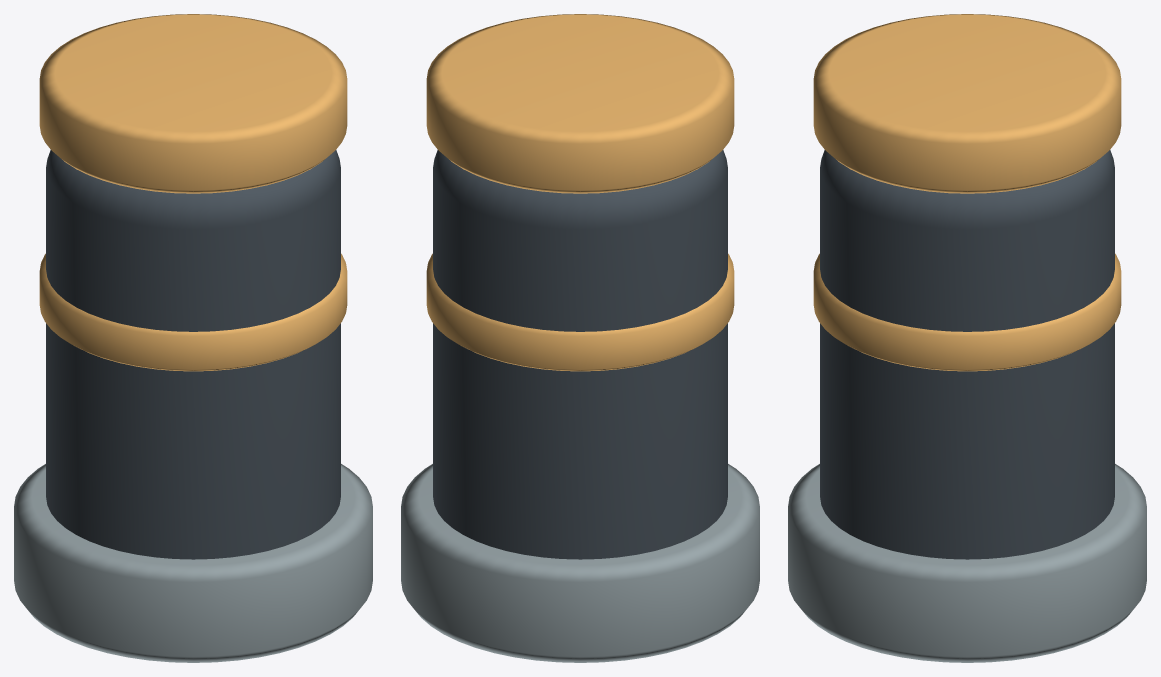
Rendered from product.glb.
3 views of the same model, side by side, from view 1: azimuth 30°, elevation 25°; view 2: azimuth 150°, elevation 25°; view 3: azimuth 270°, elevation 25° (orthographic).
Parts seen in each view (by area): view 1: body, cap, base, band; view 2: body, cap, base, band; view 3: body, cap, base, band.
Boxes of the visible parts, x1=… form: body: x1=46, y1=150, x2=340, y2=559; cap: x1=39, y1=14, x2=347, y2=193; base: x1=14, y1=464, x2=372, y2=662; band: x1=39, y1=253, x2=347, y2=371; body: x1=433, y1=150, x2=727, y2=559; cap: x1=426, y1=14, x2=734, y2=193; base: x1=401, y1=464, x2=759, y2=662; band: x1=426, y1=253, x2=734, y2=371; body: x1=820, y1=150, x2=1114, y2=559; cap: x1=813, y1=14, x2=1121, y2=193; base: x1=788, y1=464, x2=1146, y2=662; band: x1=813, y1=253, x2=1121, y2=371.
Size of the model in its own units: 1.4 by 2.23 by 1.4.
